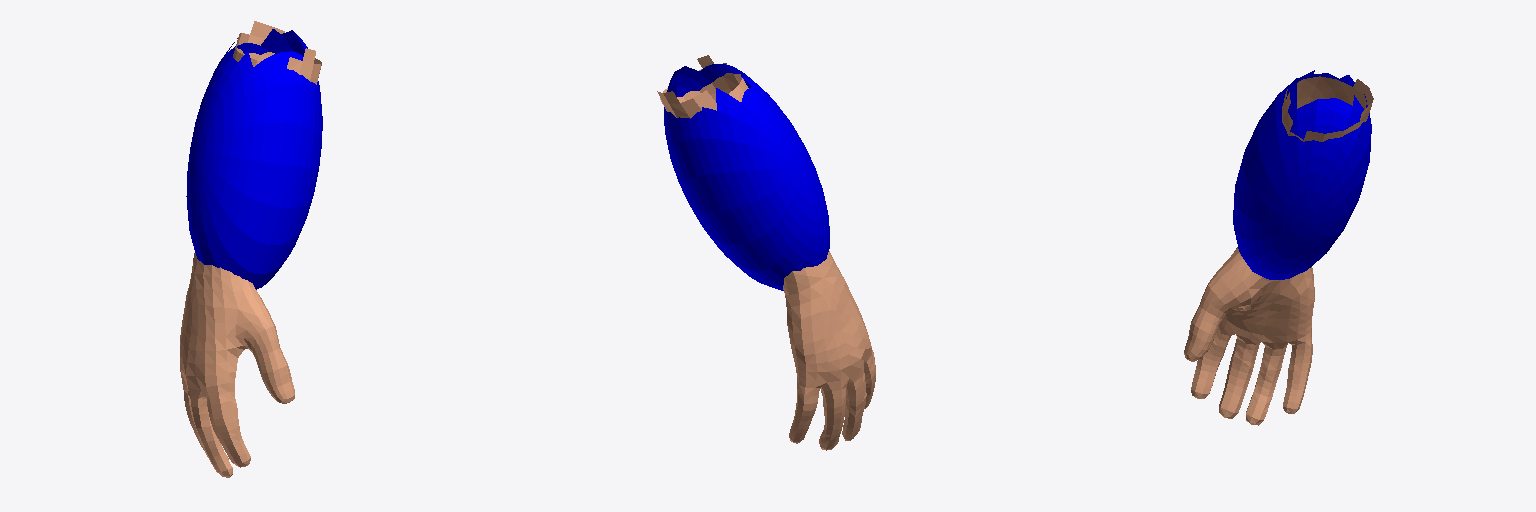
3 renders of one model, left to right at view 1: azimuth 30°, elevation 25°; view 2: azimuth 150°, elevation 25°; view 3: azimuth 270°, elevation 25°, orthographic.
Visible parts, largest first — view 1: downhand:pSphere5, downhand:humanBody; view 2: downhand:pSphere5, downhand:humanBody; view 3: downhand:pSphere5, downhand:humanBody.
Part boxes in pixels (left/top/right/bottom): downhand:pSphere5: left=186, top=29, right=322, bottom=289; downhand:humanBody: left=180, top=21, right=321, bottom=477; downhand:pSphere5: left=664, top=64, right=829, bottom=290; downhand:humanBody: left=657, top=55, right=875, bottom=450; downhand:pSphere5: left=1233, top=70, right=1371, bottom=279; downhand:humanBody: left=1184, top=76, right=1373, bottom=425.
Size of the model in its own units: 1.2 by 2.69 by 1.22.